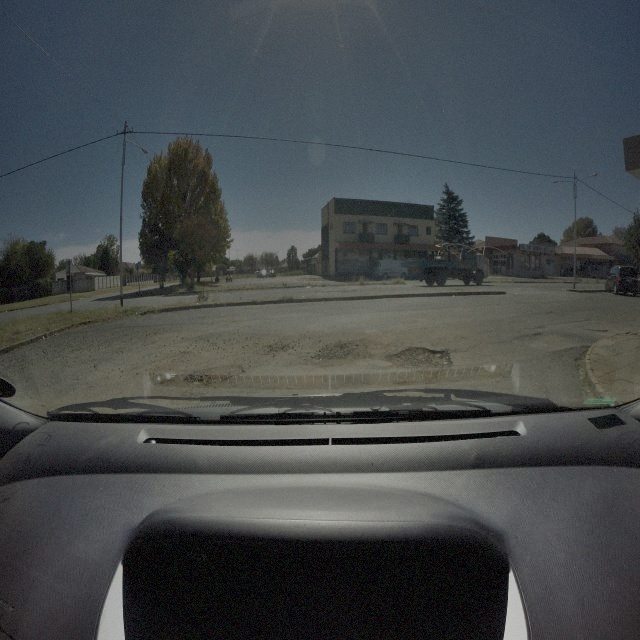pothole: (388, 342, 457, 372), (313, 340, 353, 362), (572, 347, 591, 393), (183, 371, 232, 388)
